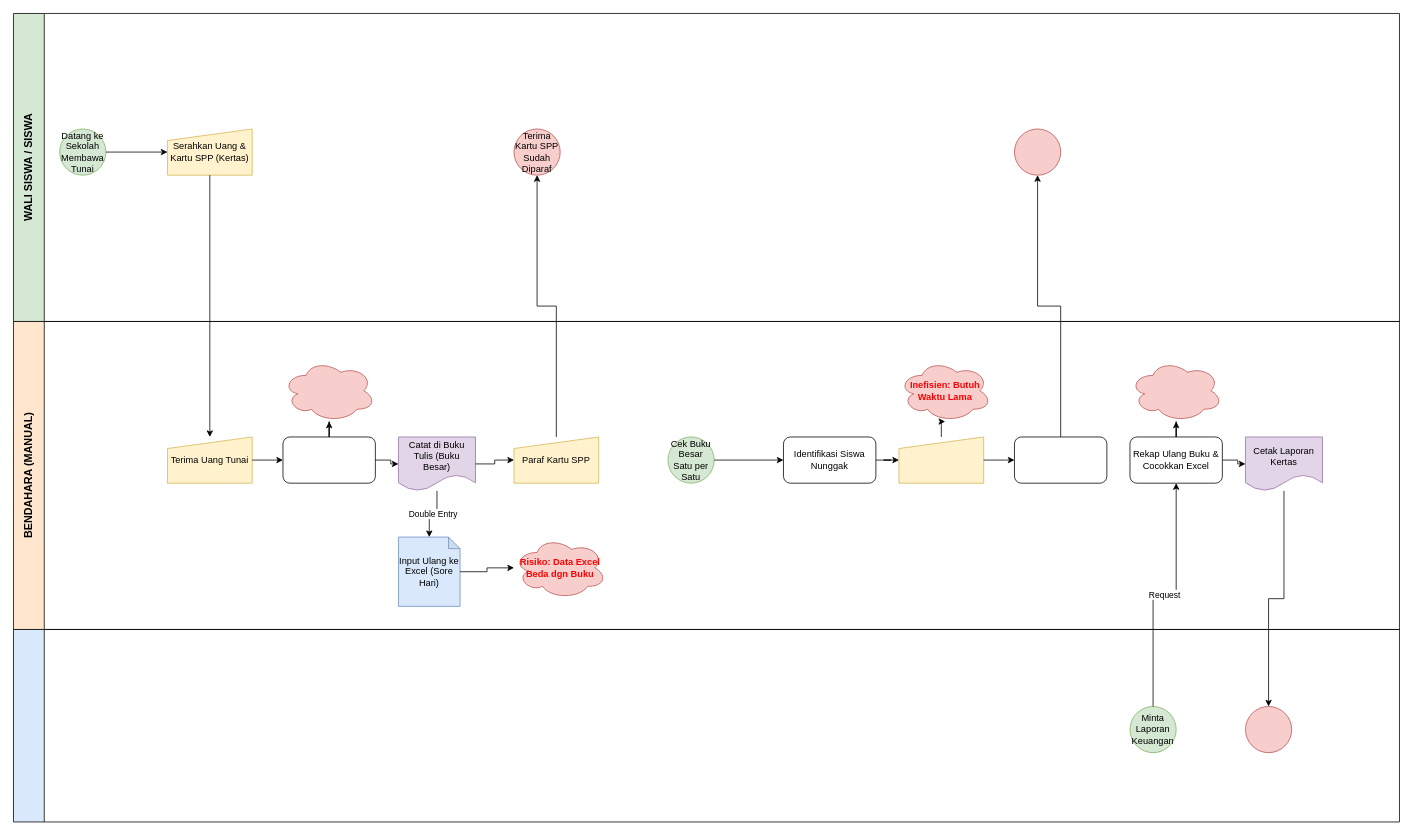
Image size: 1413x835. Some labels were removed from this diagram. Each missing label, with the box of its shape:
Baca Laporan (Tidak Real-time): (1245, 706, 1292, 753)
Hitung Manual (Kalkulator): (282, 436, 375, 483)
KEPALA SEKOLAH: (13, 629, 1399, 822)
Ketik Chat WA Manual per Siswa: (898, 436, 984, 483)
Kirim WA: (1014, 436, 1107, 483)
Lambat & Sulit Lacak Selisih: (1129, 359, 1222, 422)
Risiko: Salah Hitung: (282, 359, 375, 422)
Terima WA Tagihan: (1014, 128, 1061, 175)
